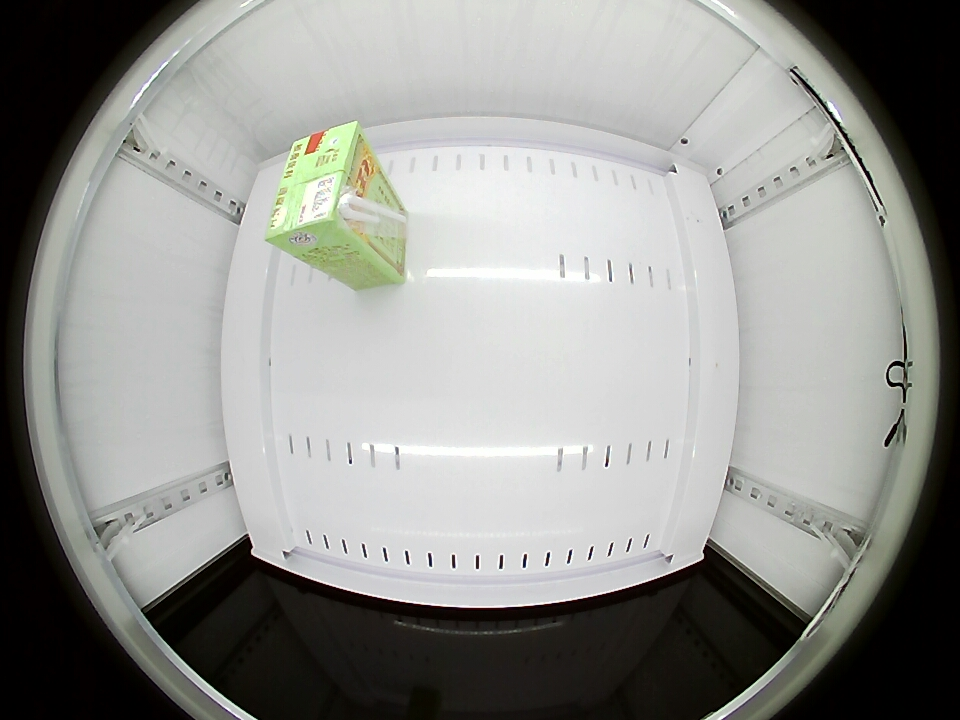wanglaoji: (266, 124, 374, 257)
